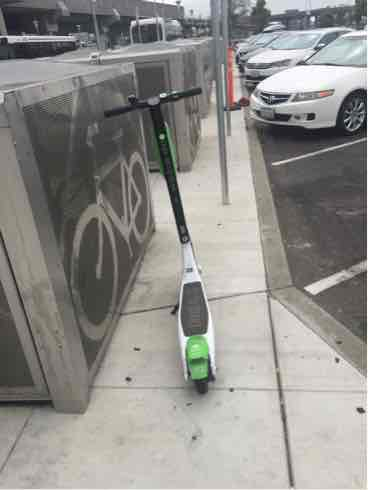scooter: (99, 76, 230, 403)
